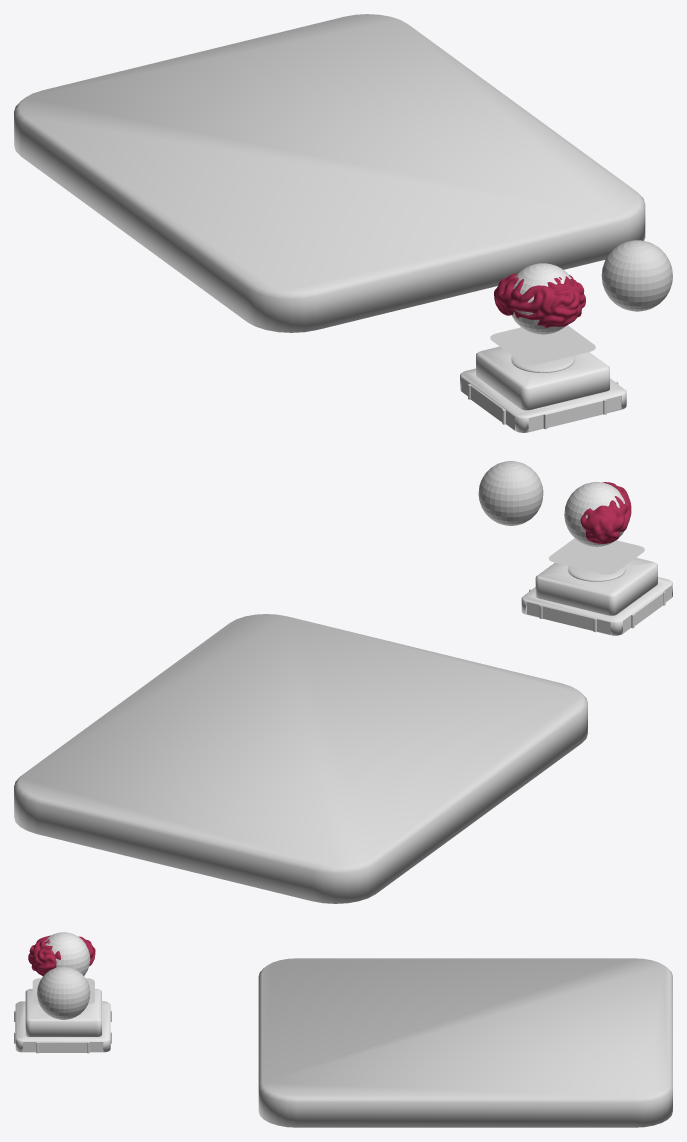
File: City_prototype_3.glb
3 renders of one model, top to bottom at view 1: azimuth 30°, elevation 25°; view 2: azimuth 150°, elevation 25°; view 3: azimuth 270°, elevation 25°, orthographic. The views are drawn at different scales.
Parts seen in each view (by area): view 1: Cube.009, Cube.008, Sphere.001, Object_4, Plane.002, Cube, Sphere, Cube.003, Cube.001; view 2: Cube.009, Cube.008, Sphere.001, Plane.002, Sphere, Object_4, Cube, Cube.005, Cube.001; view 3: Cube.009, Sphere.001, Cube.008, Cube, Sphere, Object_4, Cube.011, Plane.002.
Boxes of the visible parts, x1,y1,x2,y2 form: Cube.009: (14, 14, 645, 332); Cube.008: (476, 346, 609, 410); Sphere.001: (601, 240, 672, 311); Object_4: (494, 273, 585, 327); Plane.002: (490, 325, 595, 364); Cube: (460, 368, 626, 432); Sphere: (511, 263, 571, 334); Cube.003: (528, 396, 621, 431); Cube.001: (461, 378, 514, 430); Cube.009: (14, 614, 587, 903); Cube.008: (535, 557, 657, 615); Sphere.001: (478, 461, 543, 525); Plane.002: (549, 538, 644, 574); Sphere: (564, 482, 624, 546); Object_4: (580, 482, 631, 543); Cube: (521, 577, 672, 635); Cube.005: (526, 602, 610, 634); Cube.001: (623, 585, 671, 633); Cube.009: (258, 958, 672, 1127); Sphere.001: (37, 966, 90, 1019); Cube.008: (25, 989, 101, 1036); Cube: (15, 1001, 110, 1052); Sphere: (45, 932, 90, 975); Object_4: (28, 935, 95, 975); Cube.011: (23, 1042, 103, 1053); Plane.002: (32, 978, 94, 1004).
Size of the model in its own units: 22.24 by 7.38 by 43.47.
